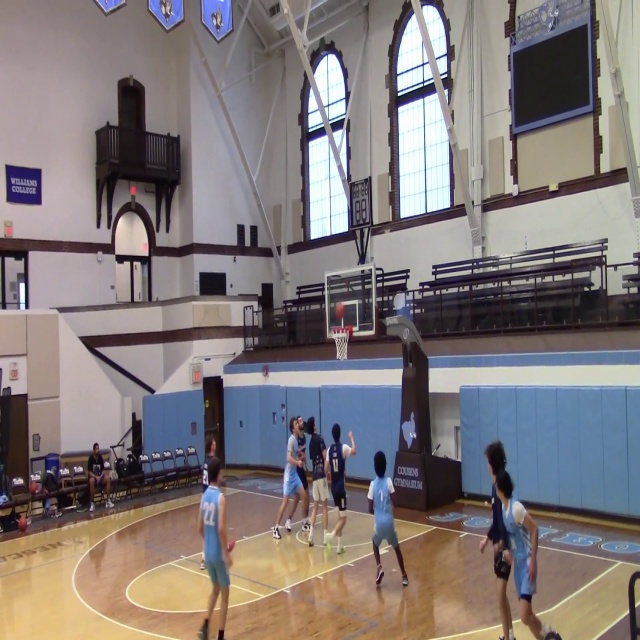Basketball: (18, 516, 27, 532), (336, 303, 345, 318), (29, 481, 37, 493)
